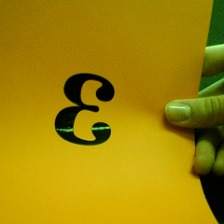orange3: (48, 68, 118, 149)
